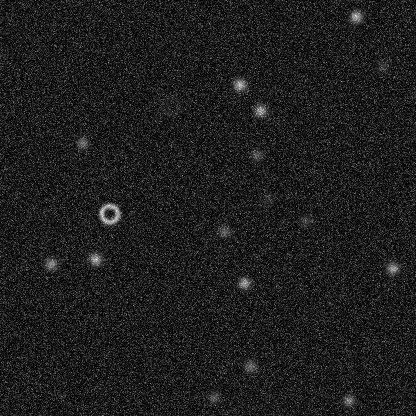Ring: (97, 201, 121, 225), (158, 93, 182, 117)
Spot: (340, 392, 356, 408), (248, 146, 264, 162), (231, 76, 247, 92), (260, 190, 276, 206), (348, 8, 364, 24), (236, 275, 252, 291), (216, 223, 232, 239), (42, 255, 58, 271), (206, 389, 222, 405), (297, 212, 313, 228), (252, 102, 268, 118), (87, 251, 103, 267), (374, 57, 390, 73), (241, 358, 257, 374), (384, 260, 400, 276), (74, 134, 90, 150)
